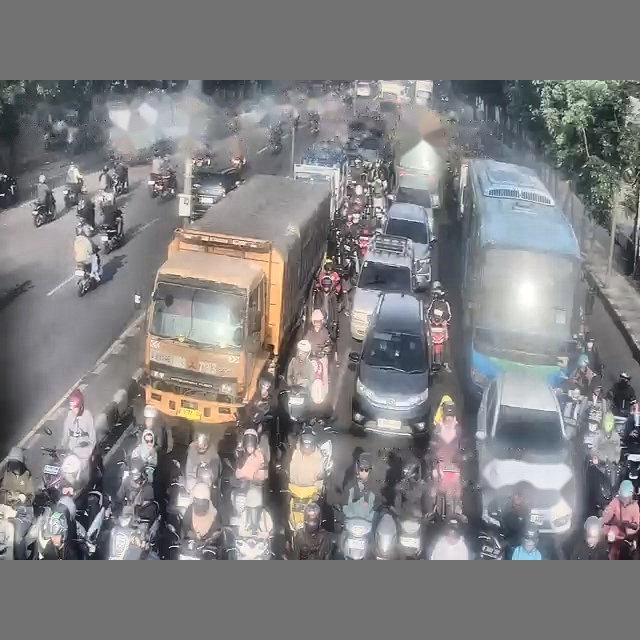Bis: (458, 159, 583, 397)
